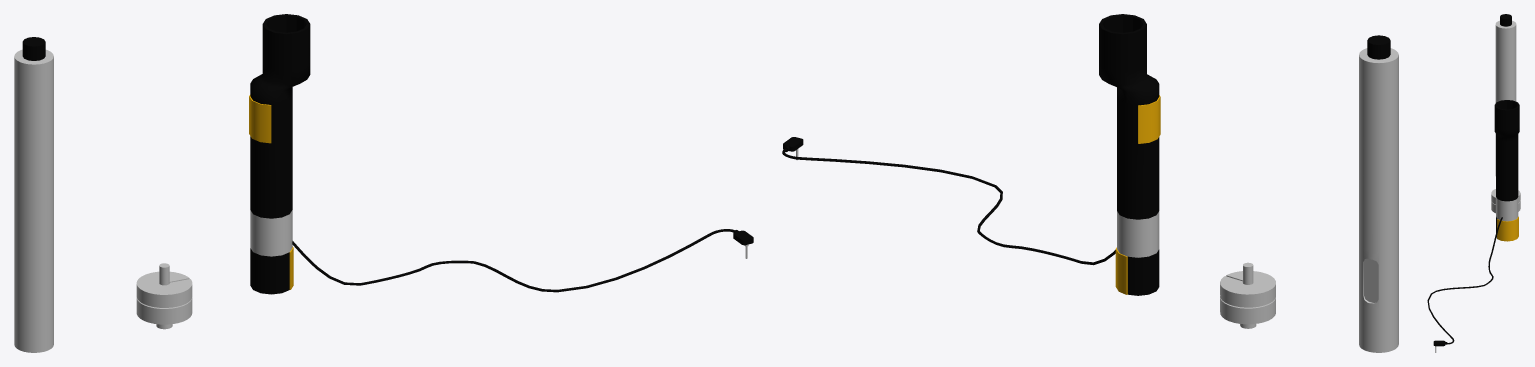
The model's file is chuanganqi.FBX.
3 renders of one model, left to right at view 1: azimuth 30°, elevation 25°; view 2: azimuth 150°, elevation 25°; view 3: azimuth 270°, elevation 25°, orthographic. The views are drawn at different scales.
Parts seen in each view (by area): view 1: Cylinder001, Line001, Donut002, 对象003, Line002, Donut001, 对象001; view 2: Cylinder001, Line001, Donut002, 对象003, Line002, Donut001, 对象001, Cylinder002, 对象002; view 3: Line001, Cylinder001, 对象003, 对象002, Line002, Cylinder002, Donut002.
Part boxes in pixels (box(x1,y1,x2,y2)): Cylinder001: box(14, 49, 53, 352); Line001: box(250, 14, 310, 294); Donut002: box(136, 271, 192, 307); 对象003: box(250, 210, 292, 256); Line002: box(292, 229, 734, 292); Donut001: box(136, 298, 192, 324); 对象001: box(249, 95, 271, 143); Cylinder001: box(1359, 48, 1398, 352); Line001: box(1099, 14, 1159, 295); Donut002: box(1220, 271, 1275, 307); 对象003: box(1117, 211, 1159, 257); Line002: box(782, 149, 1115, 265); Donut001: box(1220, 296, 1275, 324); 对象001: box(1138, 95, 1160, 143); Cylinder002: box(1367, 35, 1390, 59); 对象002: box(1115, 247, 1127, 294); Line001: box(1494, 100, 1519, 237); Cylinder001: box(1495, 20, 1516, 175); 对象003: box(1496, 197, 1518, 221); 对象002: box(1497, 216, 1518, 241); Line002: box(1427, 217, 1502, 344); Cylinder002: box(1500, 14, 1511, 26); Donut002: box(1491, 189, 1520, 204).
Bounding box in the file's own units: 833 × 387 × 191.
